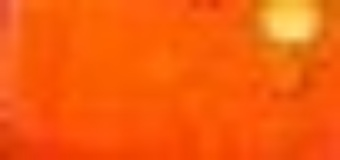Hotspot: (260, 1, 329, 44)
